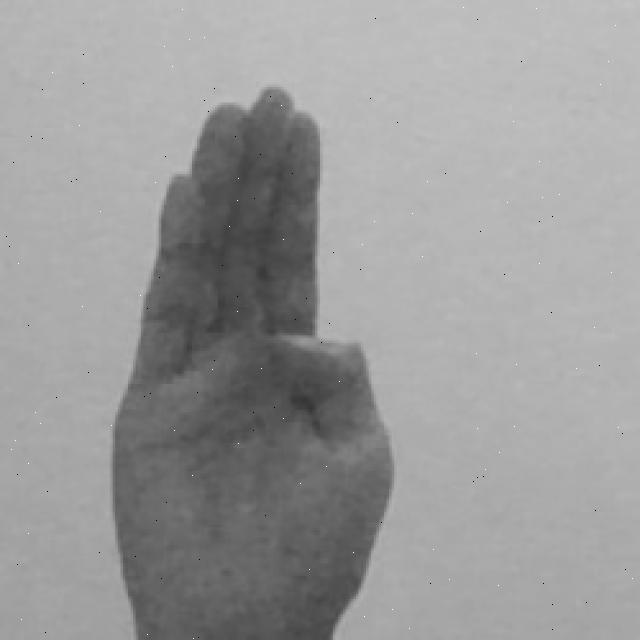B: (105, 82, 402, 636)
